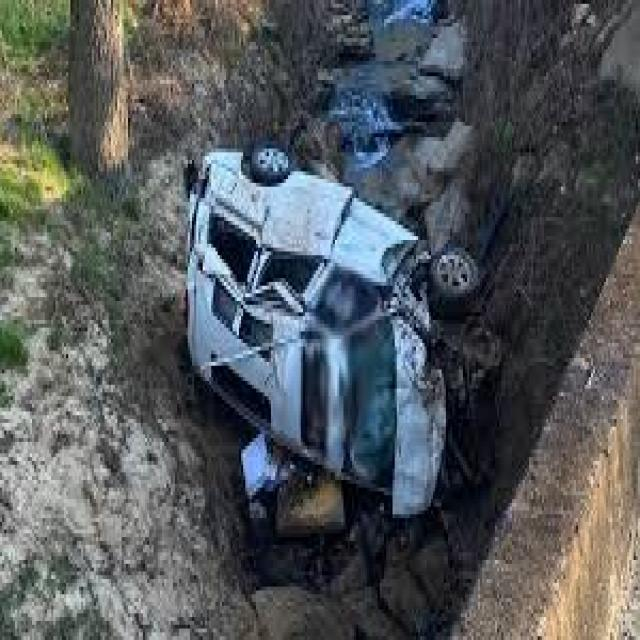accident: (171, 109, 522, 503)
